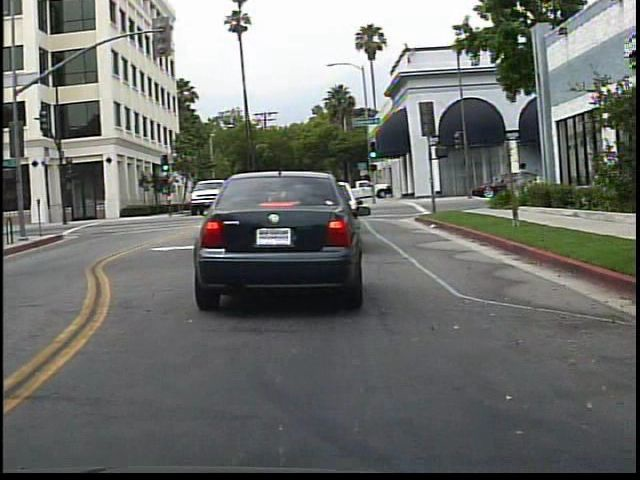person: (506, 159, 535, 207)
